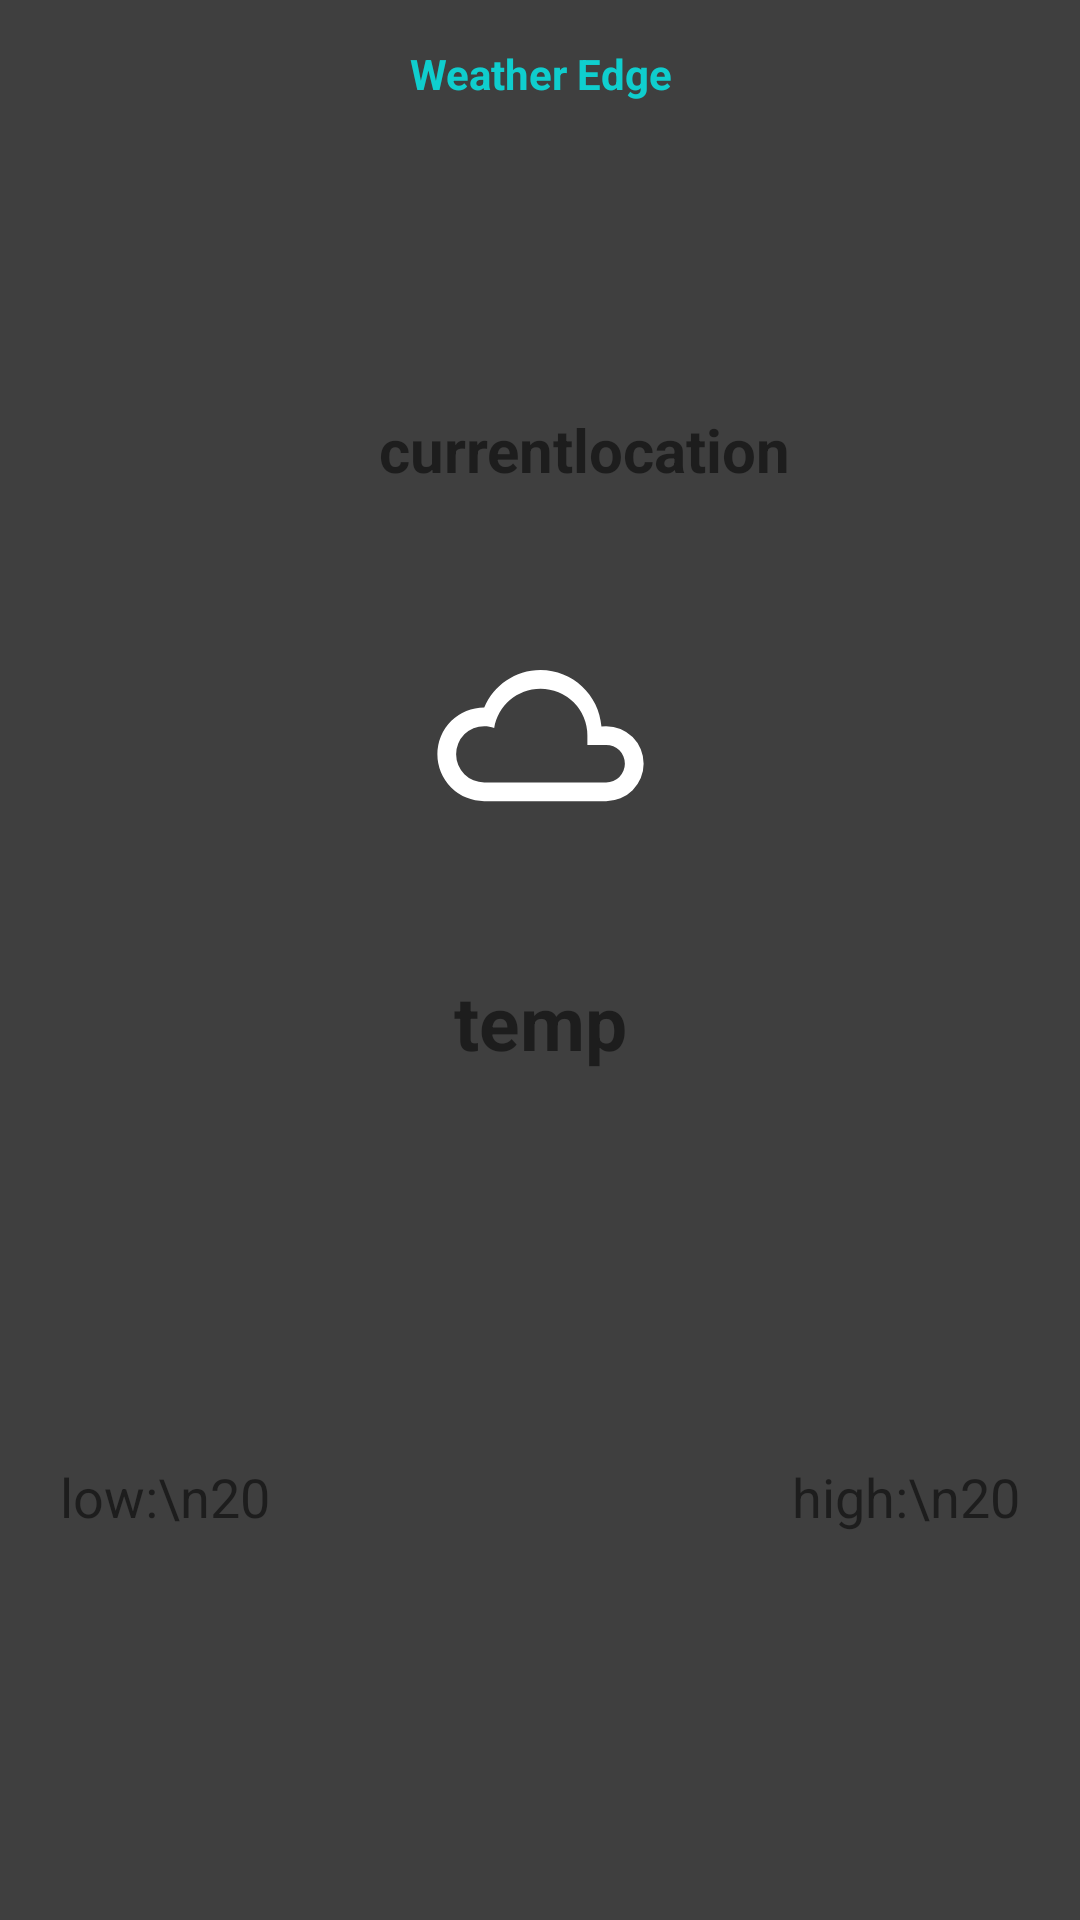

Locate icon controls on the screen. Image size 1080 × 1920, boxes as (x1, y1, x2, y2).
weather cloudy: (437, 670, 644, 802)
